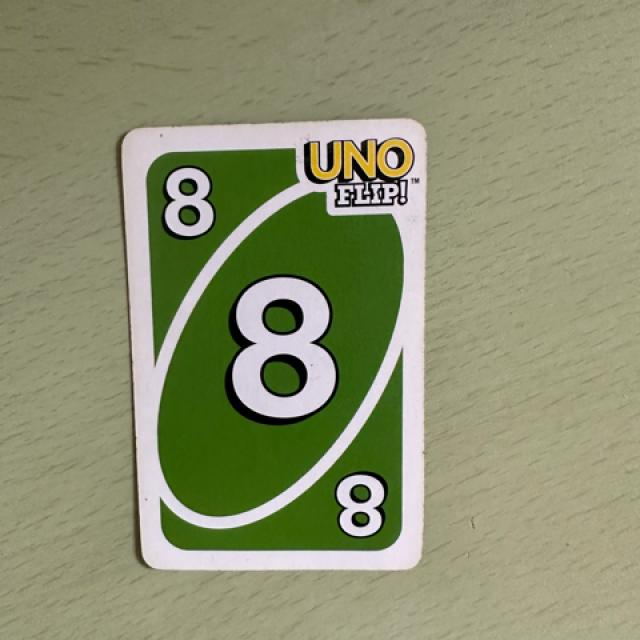lgreen-8: (139, 139, 240, 261)
